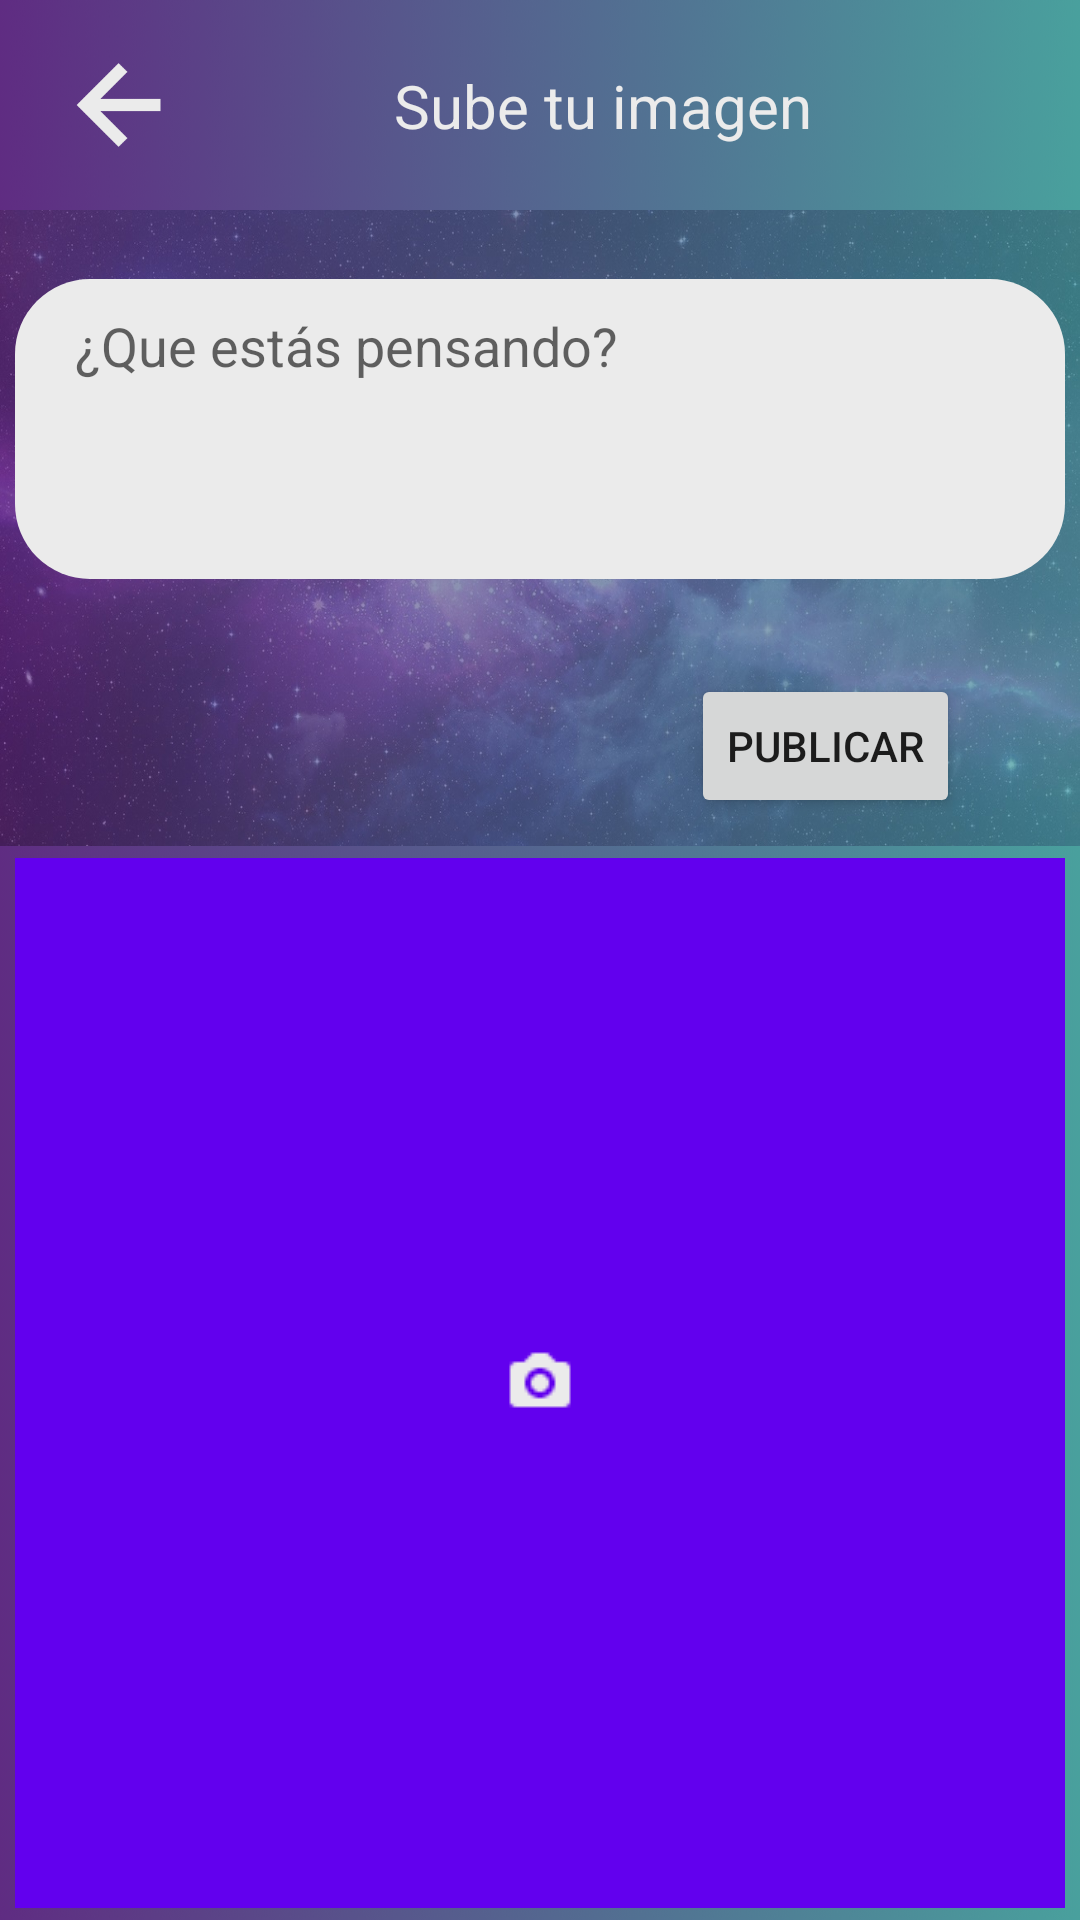

Where icons sit on this 1080*1920 app screen, as (x1, y1, x2, y2):
left arrow: (77, 63, 161, 147)
